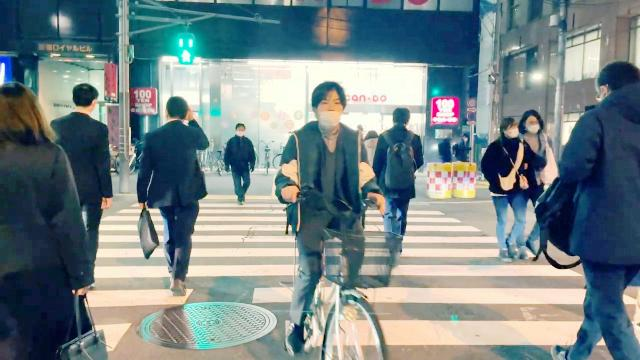berjalan: (0, 72, 116, 354), (546, 51, 639, 360), (135, 94, 213, 296), (48, 82, 114, 300), (472, 115, 532, 258), (372, 112, 418, 276), (222, 124, 260, 210)
